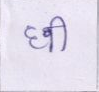i_matra: (53, 15, 70, 50)
